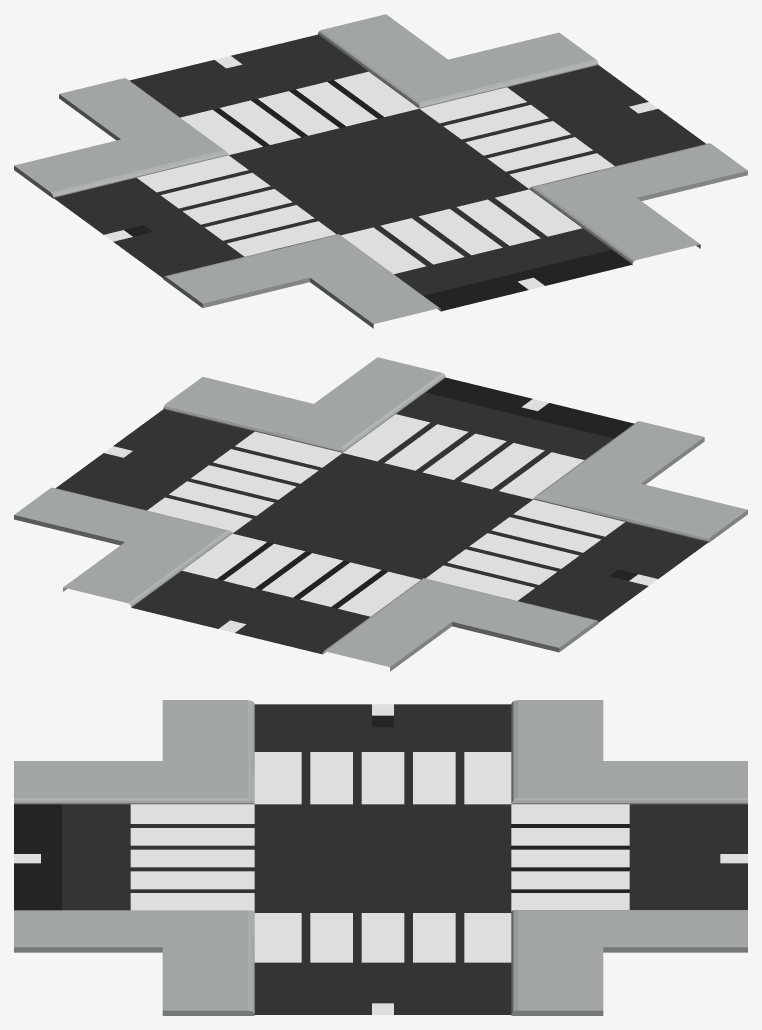
Rendered from road-cross.glb.
3 renders of one model, top to bottom at view 1: azimuth 30°, elevation 25°; view 2: azimuth 150°, elevation 25°; view 3: azimuth 270°, elevation 25°, orthographic. The views are drawn at different scales.
Parts seen in each view (by area): view 1: Object_490; view 2: Object_490; view 3: Object_490.
Part boxes in pixels (x1,y1,x2,y2): Object_490: (14, 14, 747, 328); Object_490: (14, 357, 747, 671); Object_490: (14, 700, 747, 1015).
Size of the model in its own units: 20.01 by 0.16 by 20.
Materials: 1 (1 with a texture image).
